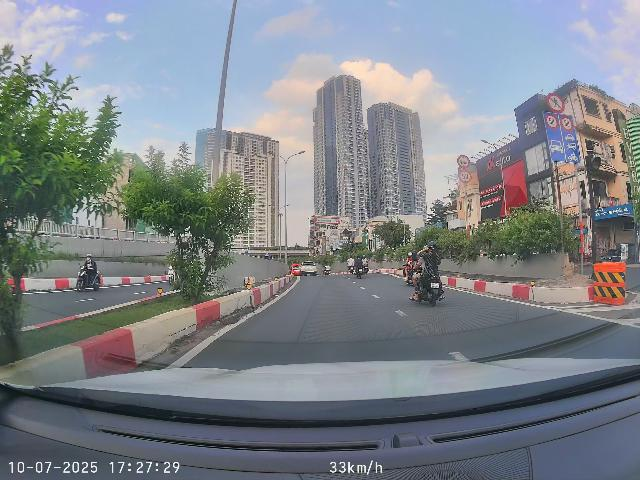127-toc-do-toi-da-50: (458, 169, 472, 183), (546, 114, 558, 130), (561, 116, 573, 131)
